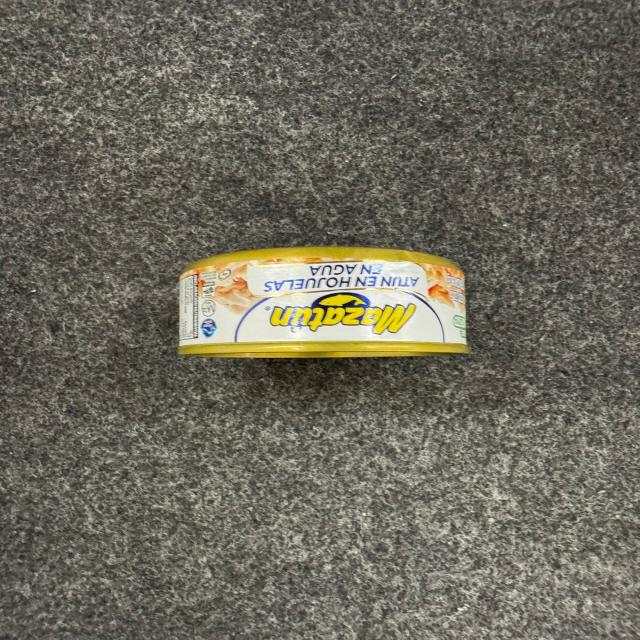Atun Mazatun Agua Sin Soya 130grs: (178, 244, 470, 360)
